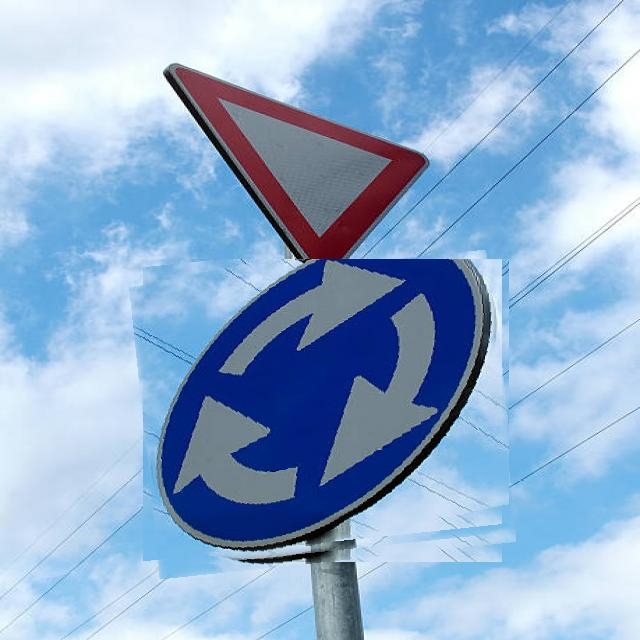roundabout: (136, 259, 509, 571)
